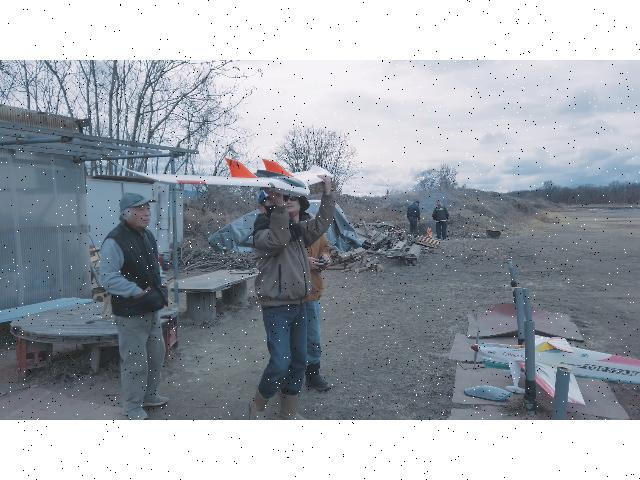Anti-Drone: (110, 152, 336, 199)
